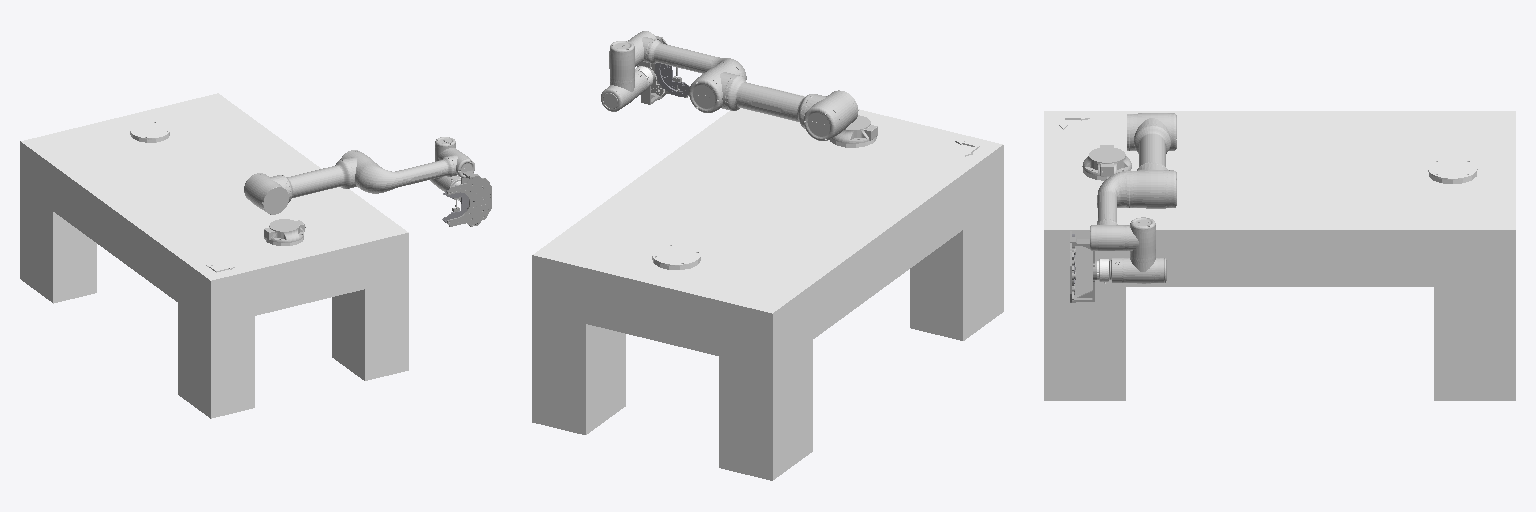
URDF robot description (right_arm):
<?xml version="1.0" encoding="utf-8"?>
<!-- This URDF was automatically created by SolidWorks to URDF Exporter! Originally created by [author] ([email redacted]) 
     Commit Version: 1.6.0-4-g7f85cfe  Build Version: 1.6.7995.38578
     For more information, please see http://wiki.ros.org/sw_urdf_exporter -->
<robot name="right_arm">

   <mujoco>
        <compiler
        meshdir="../meshes/"
        balanceinertia="true"
        discardvisual="false" />
  </mujoco>

  <link name="table_base">
    <inertial>
      <origin
        xyz="0.45001 0.74998 0.42961"
        rpy="0 0 0" />
      <mass
        value="353.69" />
      <inertia
        ixx="90.977"
        ixy="-0.0055919"
        ixz="-0.00060496"
        iyy="36.448"
        iyz="0.0010856"
        izz="111.92" />
    </inertial>
    <visual>
      <origin
        xyz="0 0 0"
        rpy="0 0 0" />
      <geometry>
        <mesh
          filename="../meshes/table_base.STL" />
      </geometry>
      <material
        name="">
        <color
          rgba="1 1 1 1" />
      </material>
    </visual>
    <collision>
      <origin
        xyz="0 0 0"
        rpy="0 0 0" />
      <geometry>
        <mesh
          filename="../meshes/table_base.STL" />
      </geometry>
    </collision>
  </link>

  <link name="right_link0">
    <inertial>
      <origin
        xyz="0.000991862282192705 -0.000192651788556533 0.0195495600981984"
        rpy="0 0 0" />
      <mass
        value="0.51639212234536" />
      <inertia
        ixx="0.000628942697006034"
        ixy="-6.29951814299122E-09"
        ixz="3.21122859626175E-06"
        iyy="0.00086768897455273"
        iyz="2.45009142518561E-07"
        izz="0.00136178777793849" />
    </inertial>
    <visual>
      <origin
        xyz="0 0 0"
        rpy="0 0 0" />
      <geometry>
        <mesh
          filename="../meshes/right_link0.STL" />
      </geometry>
      <material
        name="">
        <color
          rgba="0.847058823529412 0.847058823529412 0.847058823529412 1" />
      </material>
    </visual>
    <collision>
      <origin
        xyz="0 0 0"
        rpy="0 0 0" />
      <geometry>
        <mesh
          filename="../meshes/right_link0.STL" />
      </geometry>
    </collision>
  </link>

  <joint name="r_j0"
    type="revolute">
    <origin
      xyz="0.45 0.20023 0.615"
      rpy="0 0 0" />
    <parent
      link="table_base" />
    <child
      link="right_link0" />
    <axis
      xyz="0 0 1" />
    <limit
      lower="0"
      upper="0"
      effort="0"
      velocity="0" />
  </joint>

  <link name="right_link1">
    <inertial>
      <origin
        xyz="-2.51857531862948E-07 0.00332256500839039 -0.00150902460016494"
        rpy="0 0 0" />
      <mass
        value="15.1346479444998" />
      <inertia
        ixx="0.0443031651788231"
        ixy="-2.81167524079919E-08"
        ixz="-4.05968268990278E-07"
        iyy="0.0430901762109995"
        iyz="1.43719449704963E-05"
        izz="0.0305221713846399" />
    </inertial>
    <visual>
      <origin
        xyz="0 0 0"
        rpy="0 0 0" />
      <geometry>
        <mesh
          filename="../meshes/right_link1.STL" />
      </geometry>
      <material
        name="">
        <color
          rgba="0.847058823529412 0.847058823529412 0.847058823529412 1" />
      </material>
    </visual>
    <collision>
      <origin
        xyz="0 0 0"
        rpy="0 0 0" />
      <geometry>
        <mesh
          filename="../meshes/right_link1.STL" />
      </geometry>
    </collision>
  </link>

  <joint name="r_j1"
    type="revolute">
    <origin
      xyz="0 -0.00022535 0.12015"
      rpy="0 0 0" />
    <parent
      link="right_link0" />
    <child
      link="right_link1" />
    <axis
      xyz="0 0 -1" />
    <limit
      lower="-6.2832"
      upper="6.2832"
      effort="0"
      velocity="0" />
  </joint>

  <link name="right_link2">
    <inertial>
      <origin
        xyz="0.215000100287162 6.43173030112631E-09 -0.143146610069181"
        rpy="0 0 0" />
      <mass
        value="45.8465918633366" />
      <inertia
        ixx="0.1037483140575"
        ixy="-5.87095025796085E-08"
        ixz="2.54282490418091E-07"
        iyy="0.240121009336192"
        iyz="2.15483178628983E-08"
        izz="0.212572501503178" />
    </inertial>
    <visual>
      <origin
        xyz="0 0 0"
        rpy="0 0 0" />
      <geometry>
        <mesh
          filename="../meshes/right_link2.STL" />
      </geometry>
      <material
        name="">
        <color
          rgba="0.847058823529412 0.847058823529412 0.847058823529412 1" />
      </material>
    </visual>
    <collision>
      <origin
        xyz="0 0 0"
        rpy="0 0 0" />
      <geometry>
        <mesh
          filename="../meshes/right_link2.STL" />
      </geometry>
    </collision>
  </link>

  <joint name="r_j2"
    type="revolute">
    <origin
      xyz="0 0 0"
      rpy="1.5708 0 0" />
    <parent
      link="right_link1" />
    <child
      link="right_link2" />
    <axis
      xyz="0 0 1" />
    <limit
      lower="-1.4835"
      upper="4.6251"
      effort="0"
      velocity="0" />
  </joint>

  <link name="right_link3">
    <inertial>
      <origin
        xyz="0.190735496583493 -1.52687675682439E-05 -0.0106365862195597"
        rpy="0 0 0" />
      <mass
        value="18.0534564554839" />
      <inertia
        ixx="0.0197914204709761"
        ixy="6.48612971078311E-07"
        ixz="-0.0162800799758652"
        iyy="0.168630223367361"
        iyz="3.37641397432236E-07"
        izz="0.16527336838242" />
    </inertial>
    <visual>
      <origin
        xyz="0 0 0"
        rpy="0 0 0" />
      <geometry>
        <mesh
          filename="../meshes/right_link3.STL" />
      </geometry>
      <material
        name="">
        <color
          rgba="0.847058823529412 0.847058823529412 0.847058823529412 1" />
      </material>
    </visual>
    <collision>
      <origin
        xyz="0 0 0"
        rpy="0 0 0" />
      <geometry>
        <mesh
          filename="../meshes/right_link3.STL" />
      </geometry>
    </collision>
  </link>

  <joint name="r_j3"
    type="revolute">
    <origin
      xyz="0.43 0 0"
      rpy="0 0 0" />
    <parent
      link="right_link2" />
    <child
      link="right_link3" />
    <axis
      xyz="0 0 1" />
    <limit
      lower="-3.0543"
      upper="3.0543"
      effort="0"
      velocity="0" />
  </joint>

  <link name="right_link4">
    <inertial>
      <origin
        xyz="-1.98734804623957E-06 -0.00595118756440466 0.00267886074216198"
        rpy="0 0 0" />
      <mass
        value="5.53782702890544" />
      <inertia
        ixx="0.00708415707773479"
        ixy="1.83211236326858E-07"
        ixz="-2.36169851102956E-08"
        iyy="0.00516123063669"
        iyz="-0.000397739879929697"
        izz="0.00684324625577804" />
    </inertial>
    <visual>
      <origin
        xyz="0 0 0"
        rpy="0 0 0" />
      <geometry>
        <mesh
          filename="../meshes/right_link4.STL" />
      </geometry>
      <material
        name="">
        <color
          rgba="0.847058823529412 0.847058823529412 0.847058823529412 1" />
      </material>
    </visual>
    <collision>
      <origin
        xyz="0 0 0"
        rpy="0 0 0" />
      <geometry>
        <mesh
          filename="../meshes/right_link4.STL" />
      </geometry>
    </collision>
  </link>

  <joint name="r_j4" type="revolute">
    <origin
      xyz="0.3685 -1.185E-05 -0.114"
      rpy="0 0 0" />
    <parent
      link="right_link3" />
    <child
      link="right_link4" />
    <axis
      xyz="0 0 -1" />
    <limit
      lower="-1.4835"
      upper="4.6251"
      effort="0"
      velocity="0" />
  </joint>
  <link
    name="right_link5">
    <inertial>
      <origin
        xyz="-1.90944871281129E-06 -0.00288907759425724 -0.00234237394169168"
        rpy="0 0 0" />
      <mass
        value="6.33394466548074" />
      <inertia
        ixx="0.012920396120737"
        ixy="-1.08659585918921E-07"
        ixz="5.89055789344623E-09"
        iyy="0.00584529345673906"
        iyz="4.29603782509869E-05"
        izz="0.0126275585433332" />
    </inertial>
    <visual>
      <origin
        xyz="0 0 0"
        rpy="0 0 0" />
      <geometry>
        <mesh
          filename="../meshes/right_link5.STL" />
      </geometry>
      <material
        name="">
        <color
          rgba="0.847058823529412 0.847058823529412 0.847058823529412 1" />
      </material>
    </visual>
    <collision>
      <origin
        xyz="0 0 0"
        rpy="0 0 0" />
      <geometry>
        <mesh
          filename="../meshes/right_link5.STL" />
      </geometry>
    </collision>
  </link>

  <joint name="r_j5" type="revolute">
    <origin
      xyz="0 -0.1135 0"
      rpy="1.5708 0 0" />
    <parent
      link="right_link4" />
    <child
      link="right_link5" />
    <axis
      xyz="0 0 1" />
    <limit
      lower="-6.2832"
      upper="6.2832"
      effort="0"
      velocity="0" />
  </joint>

  <link name="right_link6">
    <inertial>
      <origin
        xyz="2.76523161144571E-05 -1.34854737601515E-05 -0.021245060068734"
        rpy="0 0 0" />
      <mass
        value="1.41689125820954" />
      <inertia
        ixx="0.000713704897956402"
        ixy="-6.91164349011993E-07"
        ixz="-6.36734535410033E-07"
        iyy="0.00072362694039658"
        iyz="1.5890038073839E-06"
        izz="0.00112895600939514" />
    </inertial>
    <visual>
      <origin
        xyz="0 0 0"
        rpy="0 0 0" />
      <geometry>
        <mesh
          filename="../meshes/right_link6.STL" />
      </geometry>
      <material
        name="">
        <color
          rgba="0.847058823529412 0.847058823529412 0.847058823529412 1" />
      </material>
    </visual>
    <collision>
      <origin
        xyz="0 0 0"
        rpy="0 0 0" />
      <geometry>
        <mesh
          filename="../meshes/right_link6.STL" />
      </geometry>
    </collision>
  </link>

  <joint name="r_j6" type="revolute">
    <origin
      xyz="0 0.107 0"
      rpy="-1.5708 0 0" />
    <parent
      link="right_link5" />
    <child
      link="right_link6" />
    <axis
      xyz="0 0 1" />
    <limit
      lower="-6.2832"
      upper="6.2832"
      effort="0"
      velocity="0" />
  </joint>

  <link name="force_sensor_link">
    <inertial>
      <origin
        xyz="-0.00038657 0.00017956 -0.02055"
        rpy="0 0 0" />
      <mass
        value="0.12592" />
      <inertia
        ixx="5.6139E-05"
        ixy="4.6333E-07"
        ixz="-3.1627E-08"
        iyy="5.5177E-05"
        iyz="-1.4175E-07"
        izz="9.499E-05" />
    </inertial>
    <visual>
      <origin
        xyz="0 0 0"
        rpy="0 0 0" />
      <geometry>
        <mesh
          filename="../meshes/force_sensor_link.STL" />
      </geometry>
      <material
        name="">
        <color
          rgba="1 1 1 1" />
      </material>
    </visual>
    <collision>
      <origin
        xyz="0 0 0"
        rpy="0 0 0" />
      <geometry>
        <mesh
          filename="../meshes/force_sensor_link.STL" />
      </geometry>
    </collision>
  </link>

  <joint name="r_f1" type="fixed">
    <origin
      xyz="0.00044323 -0.00044323 0.0395"
      rpy="0 0 0" />
    <parent
      link="right_link6" />
    <child
      link="force_sensor_link" />
    <axis
      xyz="0 0 0" />
  </joint>

  <link name="tool_body">
    <inertial>
      <origin
        xyz="0.0030549 4.2661E-07 0.047026"
        rpy="0 0 0" />
      <mass
        value="0.31958" />
      <inertia
        ixx="0.0011856"
        ixy="-1.0021E-07"
        ixz="2.5315E-07"
        iyy="0.00041875"
        iyz="-7.8268E-10"
        izz="0.0014705" />
    </inertial>
    <visual>
      <origin
        xyz="0 0 0"
        rpy="0 0 0" />
      <geometry>
        <mesh
          filename="../meshes/tool_body.STL" />
      </geometry>
      <material
        name="">
        <color
          rgba="0.74902 0.74902 0.74902 1" />
      </material>
    </visual>
    <collision>
      <origin
        xyz="0 0 0"
        rpy="0 0 0" />
      <geometry>
        <mesh
          filename="../meshes/tool_body.STL" />
      </geometry>
    </collision>
  </link>

  <joint name="r_f2" type="revolute">
    <origin
      xyz="-0.00044323 0.00044323 0.013"
      rpy="0 0 0" />
    <parent
      link="force_sensor_link" />
    <child
      link="tool_body" />
    <axis
      xyz="0 0 -1" />
    <limit
      lower="0"
      upper="0"
      effort="0"
      velocity="0" />
  </joint>

  <link name="screw_gear">
    <inertial>
      <origin
        xyz="-0.018422 -0.0011551 0.0012466"
        rpy="0 0 0" />
      <mass
        value="0.4637" />
      <inertia
        ixx="0.0010994"
        ixy="2.3876E-05"
        ixz="1.4588E-06"
        iyy="0.00058941"
        iyz="2.5853E-07"
        izz="0.0016815" />
    </inertial>
    <visual>
      <origin
        xyz="0 0 0"
        rpy="0 0 0" />
      <geometry>
        <mesh
          filename="../meshes/screw_gear.STL" />
      </geometry>
      <material
        name="">
        <color
          rgba="0.63922 0.63922 0.66275 1" />
      </material>
    </visual>
    <collision>
      <origin
        xyz="0 0 0"
        rpy="0 0 0" />
      <geometry>
        <mesh
          filename="../meshes/screw_gear.STL" />
      </geometry>
    </collision>
  </link>

  <joint name="r_c1" type="continuous">
    <origin
      xyz="-0.0785 0 0.0644"
      rpy="3.1416 0 3.1416" />
    <parent
      link="tool_body" />
    <child
      link="screw_gear" />
    <axis
      xyz="0 0 -1" />
  </joint>

  <link name="side_left">
    <inertial>
      <origin
        xyz="-1.9154E-10 5.5893E-12 0.00045008"
        rpy="0 0 0" />
      <mass
        value="0.0043012" />
      <inertia
        ixx="1.3074E-07"
        ixy="6.2645E-15"
        ixz="4.2165E-16"
        iyy="3.1828E-07"
        iyz="6.4925E-16"
        izz="2.6659E-07" />
    </inertial>
    <visual>
      <origin
        xyz="0 0 0"
        rpy="0 0 0" />
      <geometry>
        <mesh
          filename="../meshes/side_left.STL" />
      </geometry>
      <material
        name="">
        <color
          rgba="0.74902 0.74902 0.74902 1" />
      </material>
    </visual>
    <collision>
      <origin
        xyz="0 0 0"
        rpy="0 0 0" />
      <geometry>
        <mesh
          filename="../meshes/side_left.STL" />
      </geometry>
    </collision>
  </link>

  <joint name="r_p1" type="prismatic">
    <origin
      xyz="0.0012847 -0.026778 0.0036"
      rpy="-1.5708 0 -3.0937" />
    <parent
      link="screw_gear" />
    <child
      link="side_left" />
    <axis
      xyz="0 0 -1" />
    <limit
      lower="-0.01"
      upper="0.005"
      effort="0"
      velocity="0" />
  </joint>

  <link name="right_side">
    <inertial>
      <origin
        xyz="2.2426E-05 3.1396E-05 2.1095E-05"
        rpy="0 0 0" />
      <mass
        value="0.0042532" />
      <inertia
        ixx="3.0118E-07"
        ixy="-7.0175E-15"
        ixz="2.9195E-17"
        iyy="1.1553E-07"
        iyz="1.3439E-16"
        izz="2.6427E-07" />
    </inertial>
    <visual>
      <origin
        xyz="0 0 0"
        rpy="0 0 0" />
      <geometry>
        <mesh
          filename="../meshes/right_side.STL" />
      </geometry>
      <material
        name="">
        <color
          rgba="0.74902 0.74902 0.74902 1" />
      </material>
    </visual>
    <collision>
      <origin
        xyz="0 0 0"
        rpy="0 0 0" />
      <geometry>
        <mesh
          filename="../meshes/right_side.STL" />
      </geometry>
    </collision>
  </link>

  <joint name="r_p2" type="prismatic">
    <origin
      xyz="-0.0012847 0.026778 0.0036"
      rpy="1.6187 -1.5708 0" />
    <parent
      link="screw_gear" />
    <child
      link="right_side" />
    <axis
      xyz="0 0 1" />
    <limit
      lower="-0.01"
      upper="0.005"
      effort="0"
      velocity="0" />
  </joint>




  <link name="left_arm_site">
    <inertial>
      <origin
        xyz="0 0 0"
        rpy="0 0 0" />
      <mass
        value="0.51639212234536" />
      <inertia
        ixx="0.000628942697006034"
        ixy="-6.29951814299122E-09"
        ixz="3.21122859626175E-06"
        iyy="0.00086768897455273"
        iyz="2.45009142518561E-07"
        izz="0.00136178777793849" />
    </inertial>
    <visual>
      <origin
        xyz="0 0 0"
        rpy="0 0 0" />
      <geometry>
        <mesh
          filename="../meshes/left_arm_site.STL" />
      </geometry>
      <material
        name="">
        <color
          rgba="1 1 1 1" />
      </material>
    </visual>
    <collision>
      <origin
        xyz="0 0 0"
        rpy="0 0 0" />
      <geometry>
        <mesh
          filename="../meshes/left_arm_site.STL" />
      </geometry>
    </collision>
  </link>

 <joint name="l_f0" type="revolute">
    <origin
      xyz="1.1687 0.0937 0.59486"
      rpy="-3.1416 0.047938 0" />
    <parent
      link="table_base" />
    <child
      link="left_arm_site" />
    <axis
      xyz="-0.04792 0 -0.99885" />
    <limit
      lower="0"
      upper="0"
      effort="0"
      velocity="0" />
  </joint>
</robot>

--- Render facts (derived) ---
Views: 3 orthographic renders of the robot side by side, from view 1: azimuth 30°, elevation 25°; view 2: azimuth 150°, elevation 25°; view 3: azimuth 270°, elevation 25°.
Robot: right_arm — 14 links, 13 joints (9 revolute, 1 continuous, 2 prismatic, 1 fixed); root link table_base; default pose: all joints at 0.
Links seen in each view (by area): view 1: table_base, right_link2, right_link3, tool_body, right_link0, left_arm_site; view 2: table_base, right_link2, right_link3, right_link4, right_link5, left_arm_site, right_link0, screw_gear, tool_body; view 3: table_base, right_link2, right_link3, right_link4, right_link0, right_link5, left_arm_site, tool_body.
Boxes of the visible links, x1,y1,x2,y2 form: table_base: [20, 93, 408, 418]; right_link2: [244, 150, 377, 214]; right_link3: [358, 148, 474, 193]; tool_body: [447, 171, 491, 226]; right_link0: [264, 219, 305, 242]; left_arm_site: [130, 121, 169, 139]; table_base: [532, 86, 1003, 480]; right_link2: [689, 62, 858, 140]; right_link3: [628, 31, 746, 79]; right_link4: [609, 41, 639, 84]; right_link5: [601, 75, 642, 111]; left_arm_site: [652, 244, 700, 265]; right_link0: [832, 115, 877, 143]; screw_gear: [655, 63, 689, 96]; tool_body: [637, 36, 687, 104]; table_base: [1044, 111, 1515, 400]; right_link2: [1127, 113, 1176, 208]; right_link3: [1090, 171, 1128, 250]; right_link4: [1129, 217, 1155, 262]; right_link0: [1082, 145, 1131, 176]; right_link5: [1122, 258, 1166, 283]; left_arm_site: [1428, 158, 1477, 179]; tool_body: [1070, 231, 1096, 302].
Bounding box of the posed robot: 1.32 × 1.5 × 0.7976 m (x, y, z).
Meshes: 14 distinct files referenced, 13 mesh visuals loaded (13 binary STL); not drawn: 1 (reference not matched to a file when rendering).